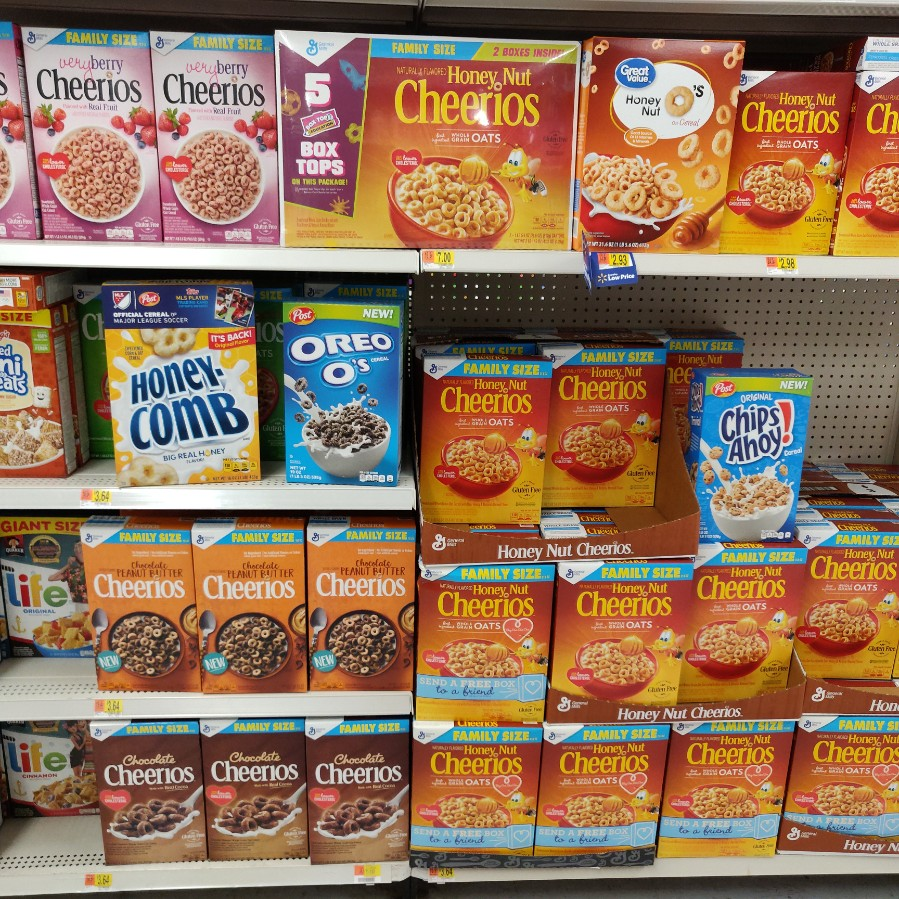Chips Ahoys-565717529: (704, 377, 807, 543)
Honey Comb- 009288857: (103, 283, 262, 481)
Oreo-563424384: (278, 293, 408, 489)
